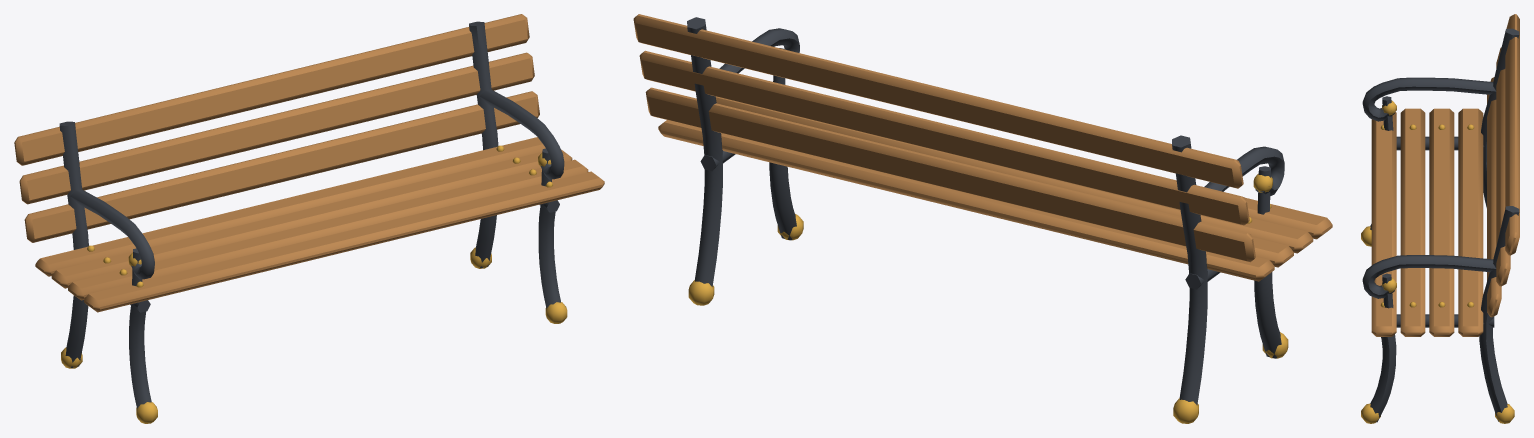
File: prop_bench.glb
The picture shows the model from 3 angles, left to right: view 1: azimuth 30°, elevation 25°; view 2: azimuth 150°, elevation 25°; view 3: azimuth 270°, elevation 25°; orthographic projection. The views are drawn at different scales.
Visible parts, largest first — view 1: Bench; view 2: Bench; view 3: Bench.
Boxes of the visible parts, left/top/right/bottom form: Bench: left=14, top=14, right=604, bottom=423; Bench: left=633, top=14, right=1332, bottom=423; Bench: left=1361, top=14, right=1519, bottom=423.
Size of what is drawn, in the model's own units: 2 by 0.9055 by 0.6057.
